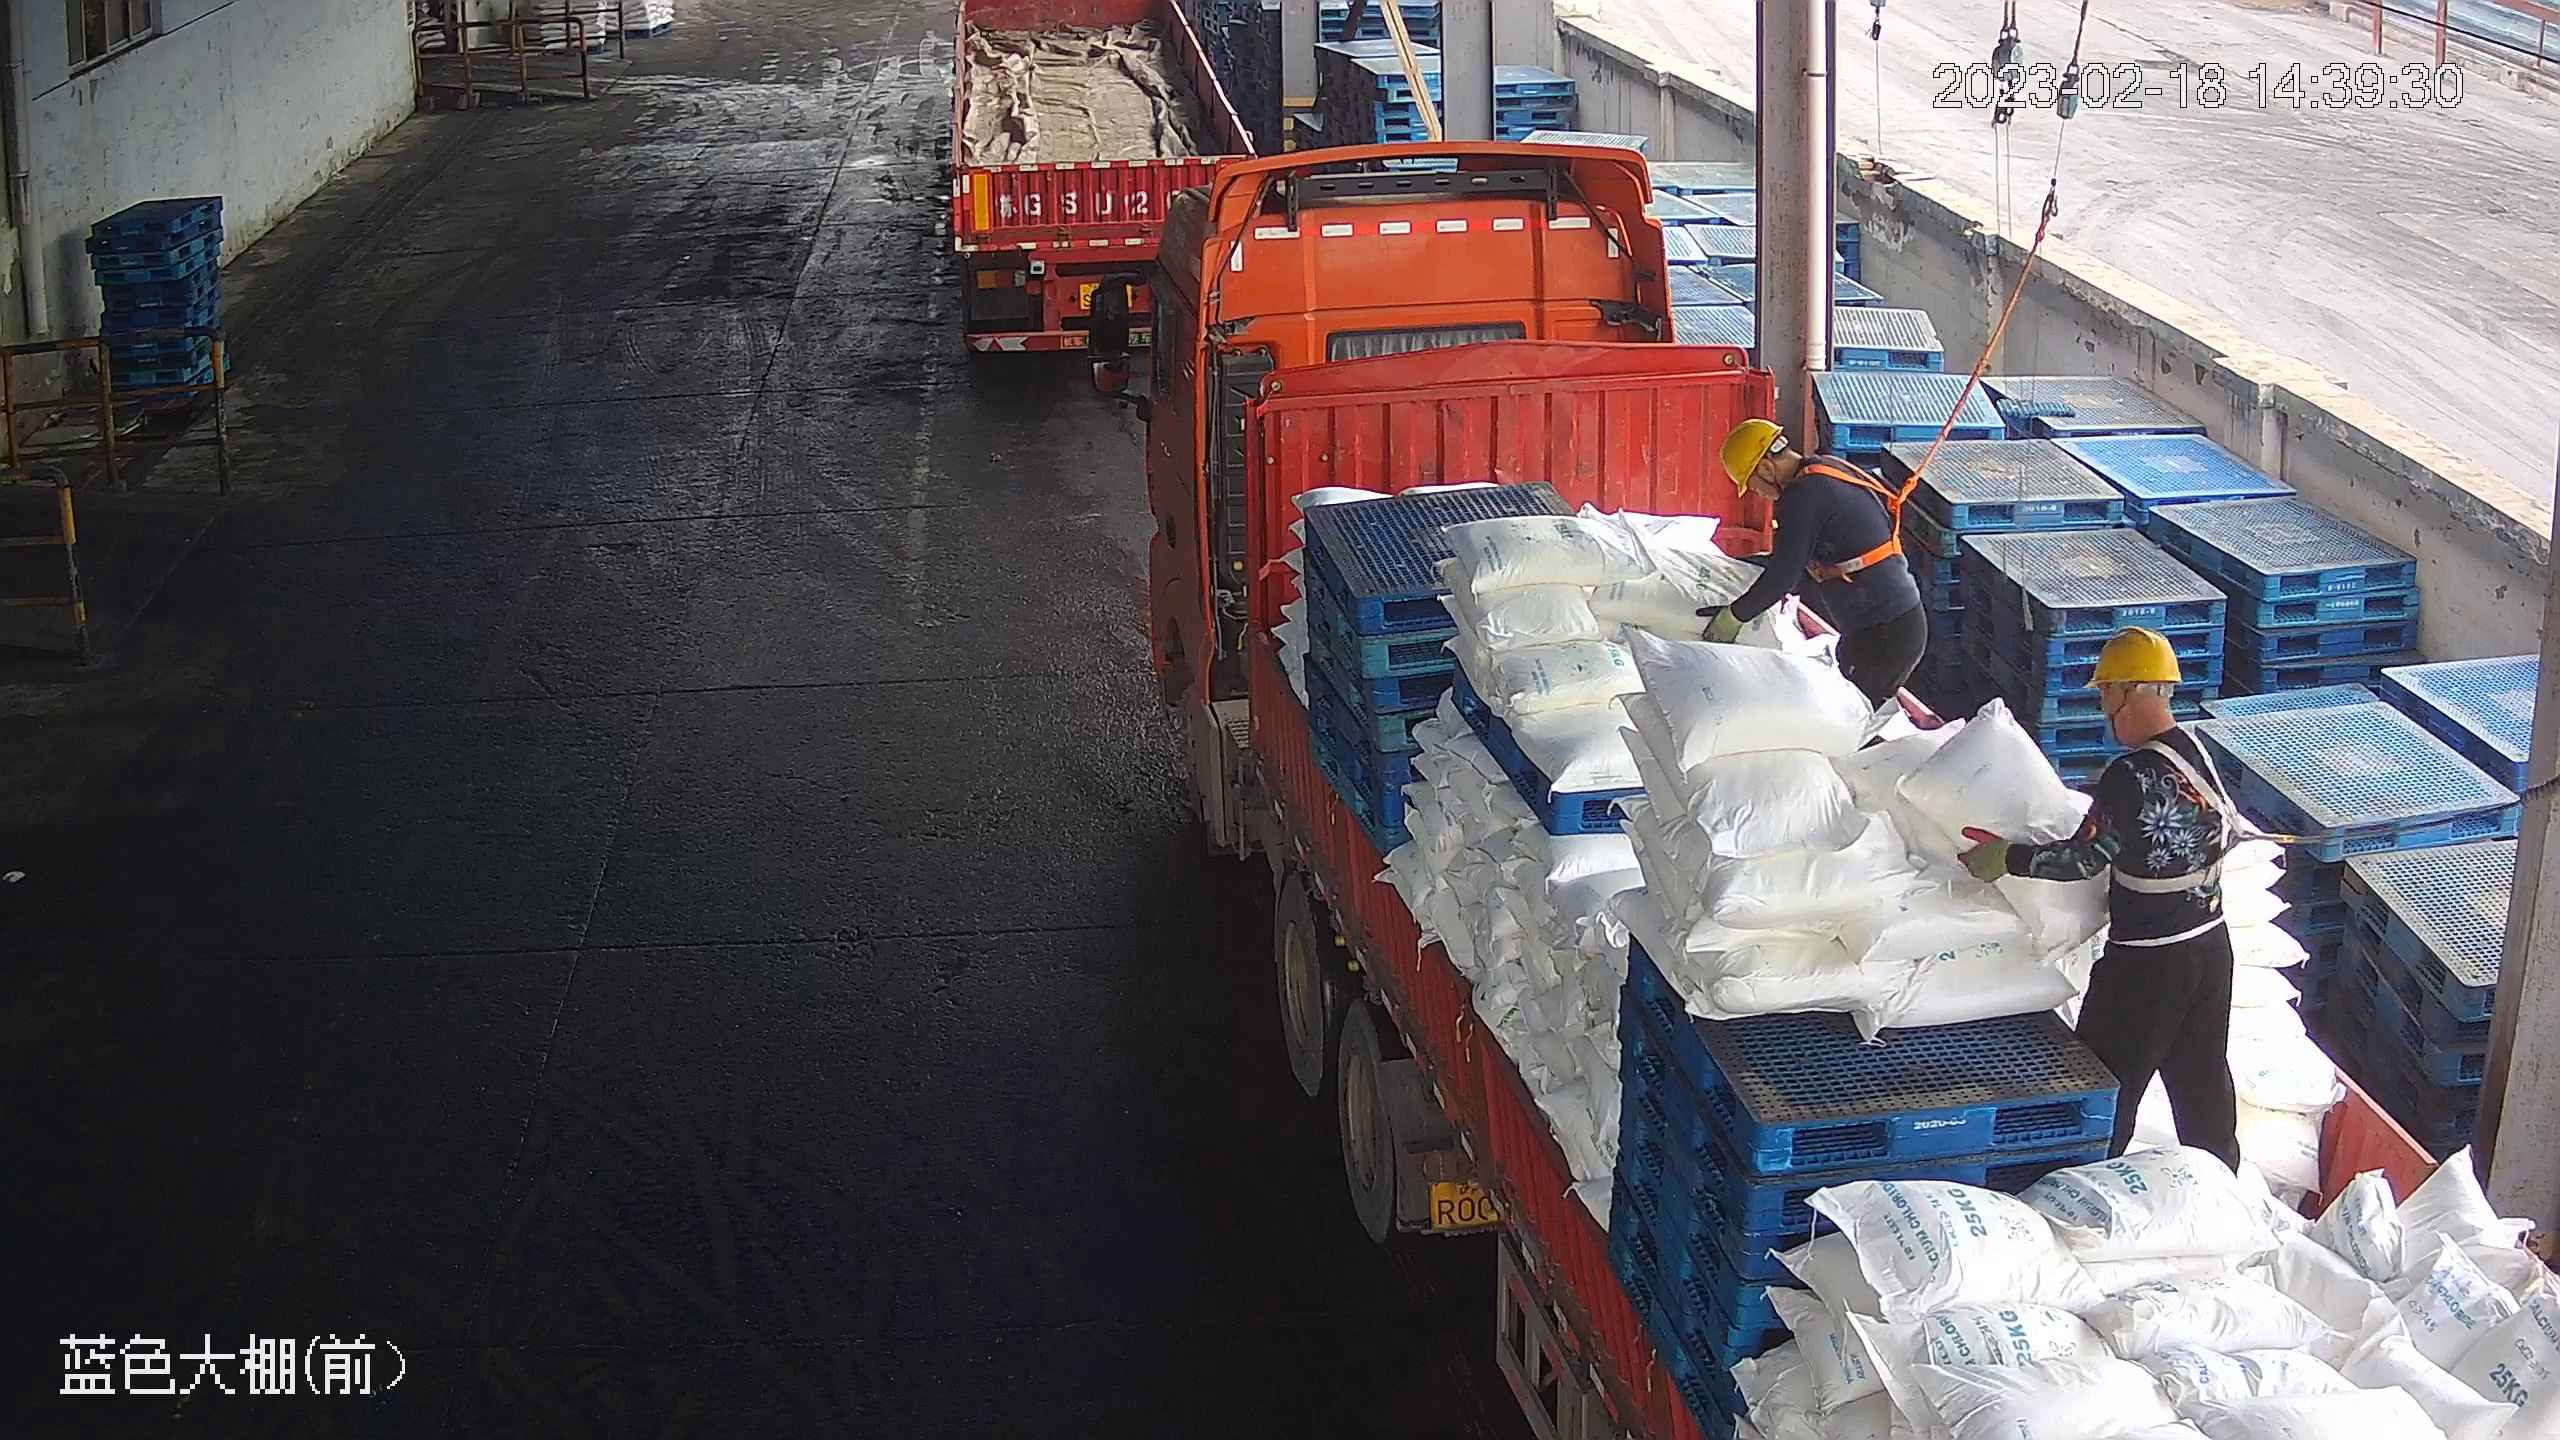belt: (2102, 736, 2248, 894), (1791, 452, 1912, 583)
head: (2079, 622, 2227, 813), (1716, 418, 1875, 527)
helmet: (2084, 624, 2183, 689), (1717, 417, 1788, 496)
people: (1954, 626, 2243, 1180), (1696, 417, 1933, 738)
truck: (1162, 158, 2559, 1439), (941, 6, 1271, 393)
